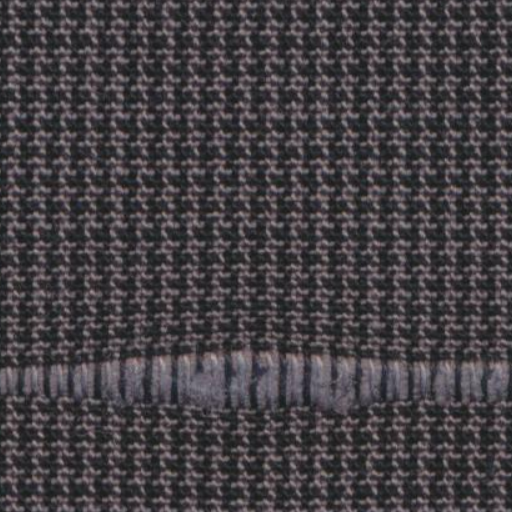DaiSha: (12, 338, 504, 419)
